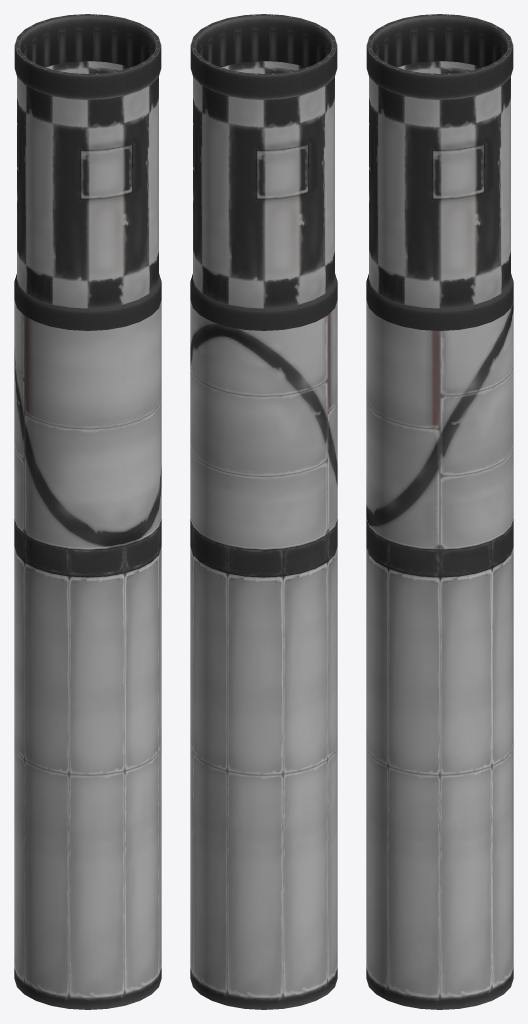
File: RedstoneTank.dae
3 views of the same model, side by side, from view 1: azimuth 30°, elevation 25°; view 2: azimuth 150°, elevation 25°; view 3: azimuth 270°, elevation 25° (orthographic).
Parts seen in each view (by area): view 1: RedstoneTank; view 2: RedstoneTank; view 3: RedstoneTank.
Part boxes in pixels (left/top/right/bottom): RedstoneTank: left=14, top=14, right=161, bottom=1009; RedstoneTank: left=190, top=14, right=337, bottom=1009; RedstoneTank: left=366, top=14, right=513, bottom=1009.
Bounding box in the file's own units: 1.25 × 8.75 × 1.25.
